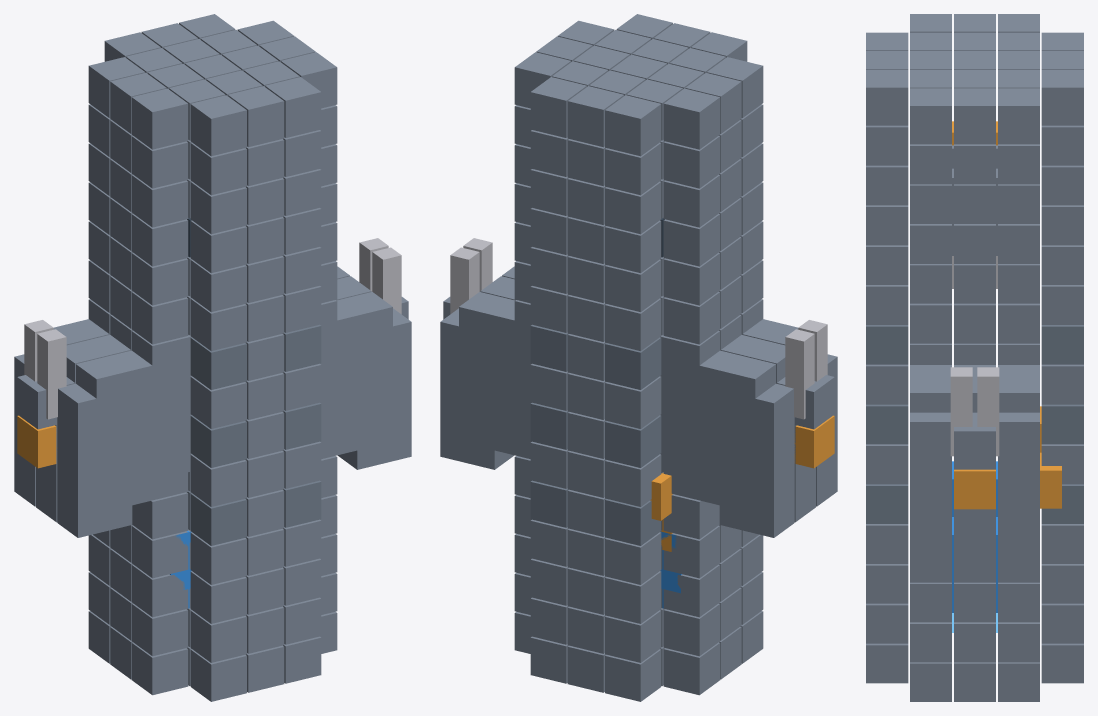
File: starfighter.gltf
3 renders of one model, left to right at view 1: azimuth 30°, elevation 25°; view 2: azimuth 150°, elevation 25°; view 3: azimuth 270°, elevation 25°, orthographic. The views are drawn at different scales.
Visible parts, largest first — view 1: VoxelStarFighter; view 2: VoxelStarFighter; view 3: VoxelStarFighter.
Boxes of the visible parts, x1=… form: VoxelStarFighter: x1=14, y1=14, x2=411, y2=701; VoxelStarFighter: x1=440, y1=14, x2=837, y2=701; VoxelStarFighter: x1=866, y1=14, x2=1083, y2=701.
Bounding box in the file's own units: 4.98 × 7.48 × 2.48.
